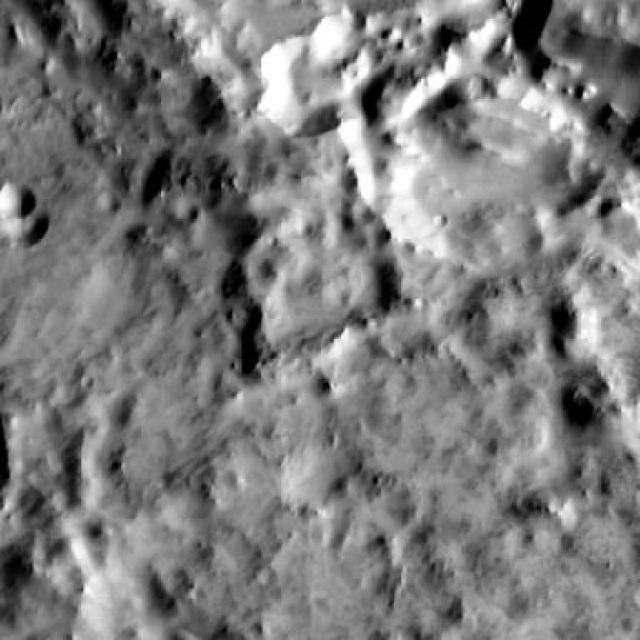crater: (0, 202, 46, 248), (0, 177, 32, 217), (95, 189, 116, 211)
